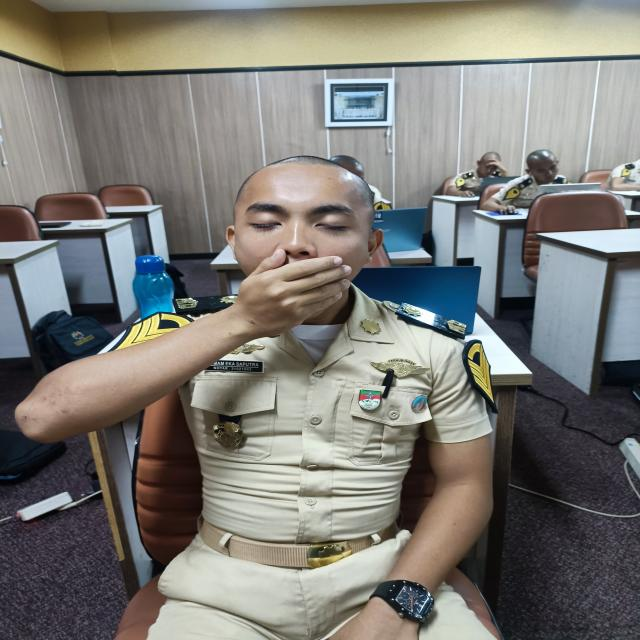7_mano_rostro: (214, 248, 353, 342)
